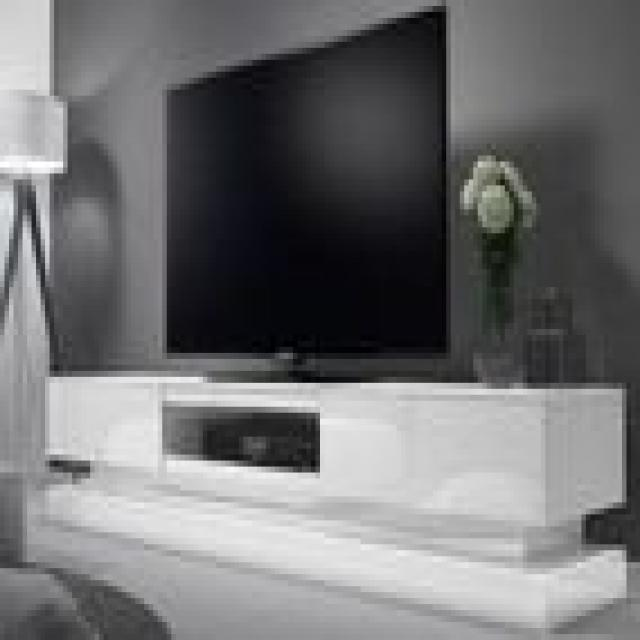others: (140, 6, 491, 365)
